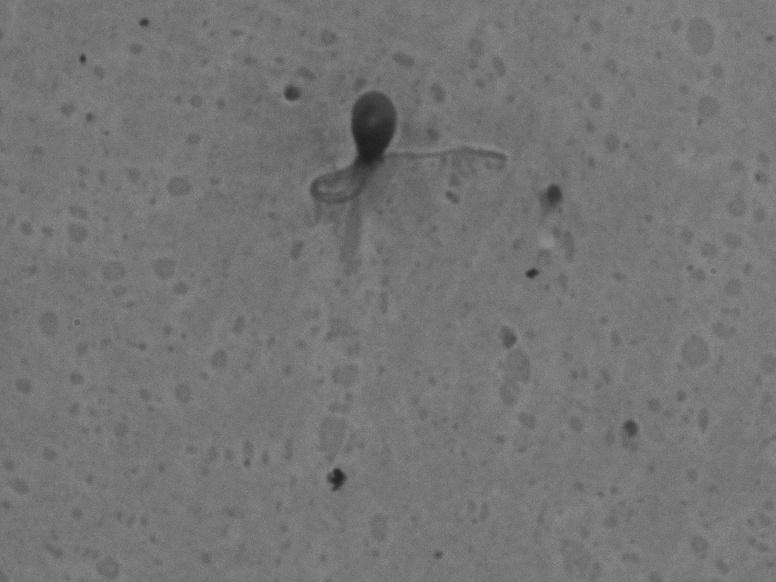Abnormal: (278, 55, 537, 261)
